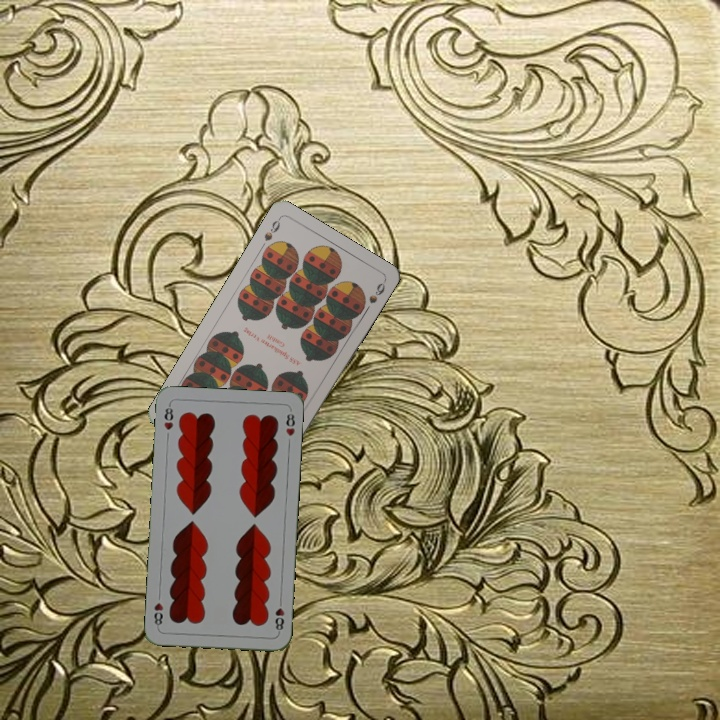H8: (271, 595, 287, 635), (160, 401, 176, 433)
S9: (260, 213, 283, 244)
